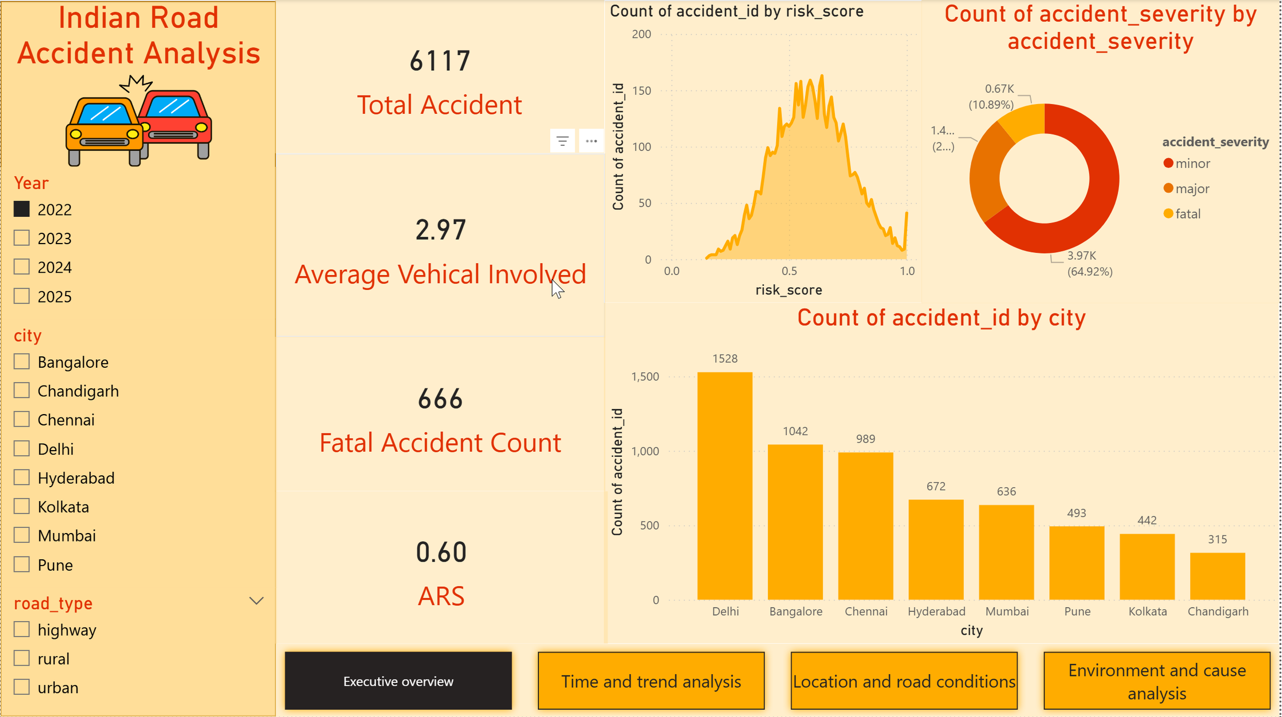

This screenshot's page, from the dashboard's own definition file:
{"tool":"powerbi","page":{"name":"Executive overview","canvas":[1280,720],"ordinal":0},"visuals":[{"type":"shape","box":[0,2.3,275.4,717.5],"z":0},{"type":"card","fields":{"Values":["Table.Total Accident"]},"box":[274.2,0,329.5,154.6],"z":1000},{"type":"card","fields":{"Values":["Table.ARS"]},"box":[274.2,493.2,332.9,152.4],"z":2000},{"type":"card","fields":{"Values":["Table.Average Vehical Involved"]},"box":[275.4,154.6,329.5,183.9],"z":3000},{"type":"card","fields":{"Values":["Table.Fatal Accident Count"]},"box":[274.2,338.6,330.7,154.6],"z":4000},{"type":"donutChart","title":"Count of accident by accident_severity","fields":{"Category":["indian_roads_dataset.accident_severity"],"Y":["CountNonNull(indian_roads_dataset.accident_severity)"]},"box":[921,0,359,304.5],"z":5000},{"type":"columnChart","fields":{"Y":["CountNonNull(indian_roads_dataset.accident_id)"],"Category":["indian_roads_dataset.city"]},"box":[603.8,304.7,676,340.8],"z":6000},{"type":"slicer","fields":{"Values":["indian_roads_dataset.city"]},"box":[0,320.5,276.5,268.6],"z":7000},{"type":"slicer","fields":{"Values":["indian_roads_dataset.Year"]},"box":[0,168.2,276.5,152.4],"z":8000},{"type":"slicer","fields":{"Values":["indian_roads_dataset.road_type"]},"box":[0,589.1,276.5,130.9],"z":9000},{"type":"image","title":"Indian Road Accident Analysis","box":[0,0,276.5,168.2],"z":10000},{"type":"pageNavigator","box":[276.5,645.5,1003.3,74.5],"z":11000},{"type":"areaChart","fields":{"Category":["indian_roads_dataset.risk_score"],"Y":["CountNonNull(indian_roads_dataset.accident_id)"]},"box":[604.1,2.5,316.9,302.1],"z":12000}]}

Visuals, with their boxes in screenshot pixels (x1, y1, x2, y2), scaled from the page's 1280x720 canvas onto the 1282x717 screenshot:
shape: [x1=0, y1=2, x2=276, y2=716]
card - Table.Total Accident: [x1=275, y1=0, x2=605, y2=154]
card - Table.ARS: [x1=275, y1=491, x2=608, y2=643]
card - Table.Average Vehical Involved: [x1=276, y1=154, x2=606, y2=337]
card - Table.Fatal Accident Count: [x1=275, y1=337, x2=606, y2=491]
"Count of accident by accident_severity" donutChart: [x1=922, y1=0, x2=1281, y2=303]
columnChart - CountNonNull(indian_roads_dataset.accident_id) x indian_roads_dataset.city: [x1=605, y1=303, x2=1281, y2=643]
slicer - indian_roads_dataset.city: [x1=0, y1=319, x2=277, y2=587]
slicer - indian_roads_dataset.Year: [x1=0, y1=167, x2=277, y2=319]
slicer - indian_roads_dataset.road_type: [x1=0, y1=587, x2=277, y2=716]
"Indian Road Accident Analysis" image: [x1=0, y1=0, x2=277, y2=167]
pageNavigator: [x1=277, y1=643, x2=1281, y2=716]
areaChart - indian_roads_dataset.risk_score x CountNonNull(indian_roads_dataset.accident_id): [x1=605, y1=2, x2=922, y2=303]
